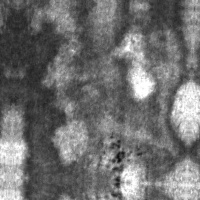inclusion: (107, 137, 142, 173)
patches: (64, 4, 195, 178), (10, 1, 70, 180)
